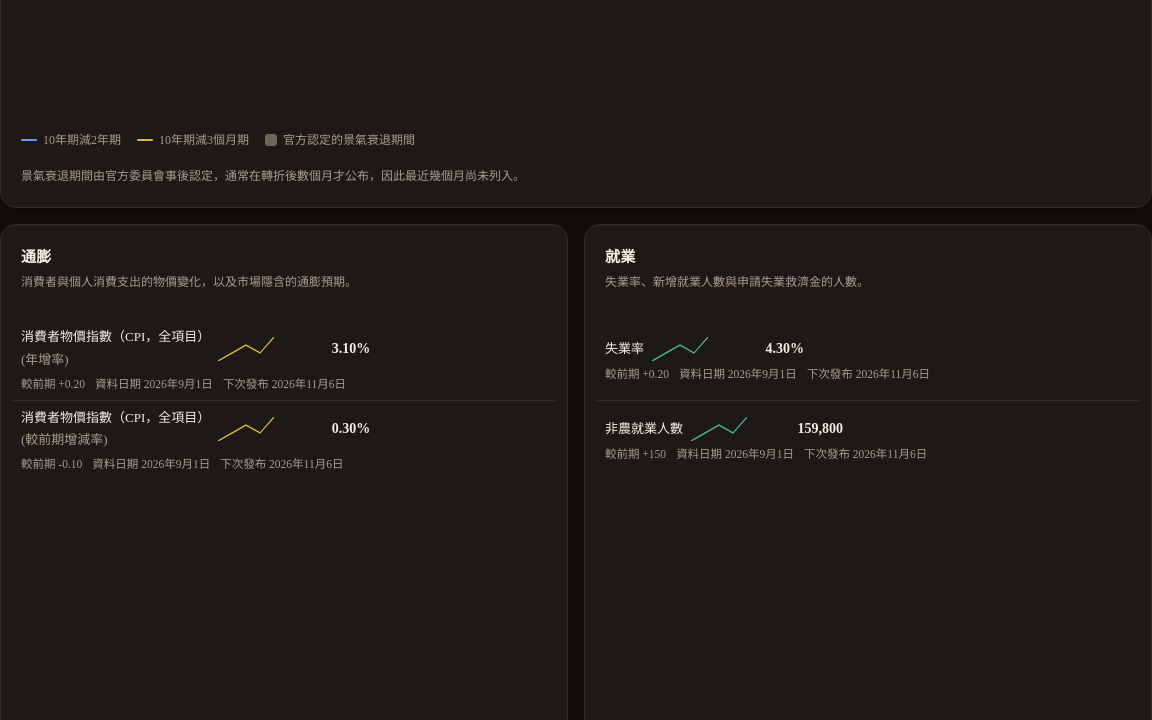
Test case: UsMacroSection › never uses the signed up/down tokens anywhere in the feature, dialog included
(page scrolled)
Expected: the heading "通膨" is shown, [21,248,51,264]
Click the button "失業率 4.30% 較前期 +0.20 資料日期 2026年9月1日 下次發布 2026年11月6日" at (625, 348), box [597,321,1139,400]
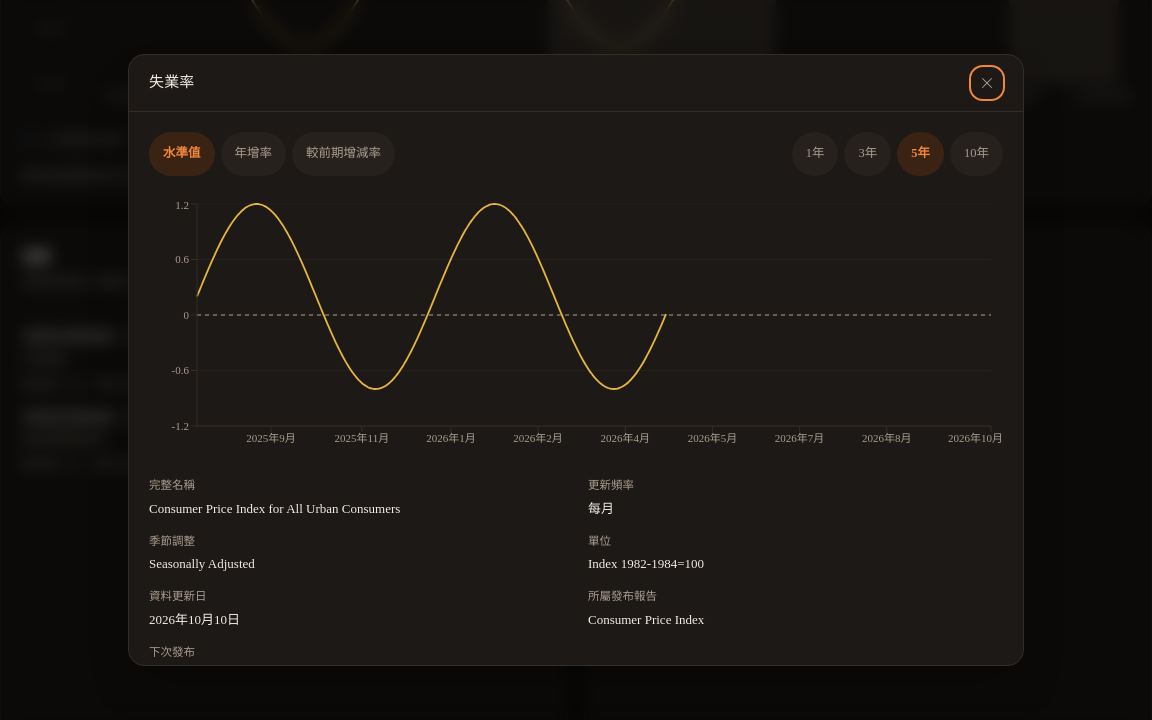
Now the dialog is shown
Now the text "季節調整" is shown, box [149,535,195,547]
